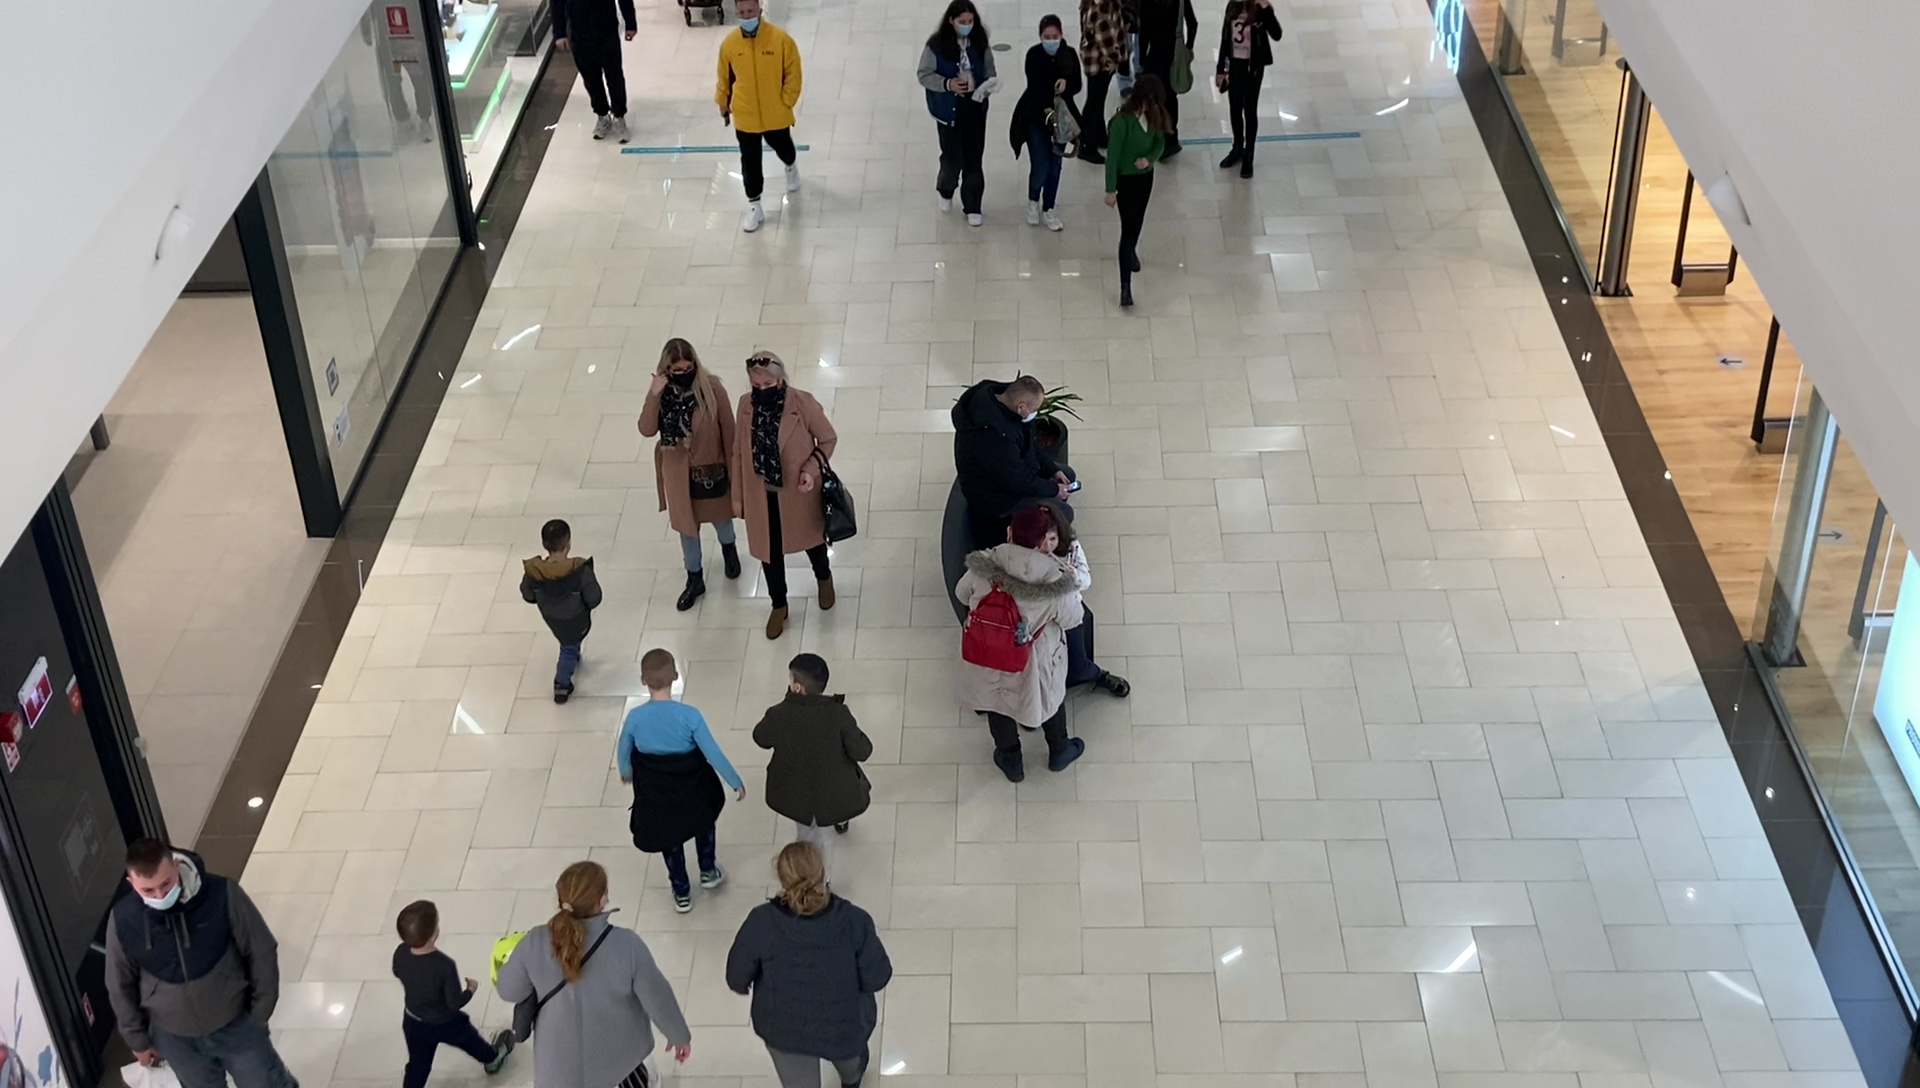person: (105, 840, 296, 1088), (495, 861, 689, 1088), (726, 842, 893, 1088), (955, 511, 1087, 783), (732, 352, 856, 640), (616, 648, 748, 914), (634, 338, 745, 615), (753, 653, 875, 857), (392, 899, 513, 1088), (718, 1, 803, 234), (915, 1, 1001, 230), (1008, 15, 1087, 232), (519, 519, 605, 706), (1105, 76, 1171, 313), (544, 1, 643, 142), (1213, 1, 1284, 180)
